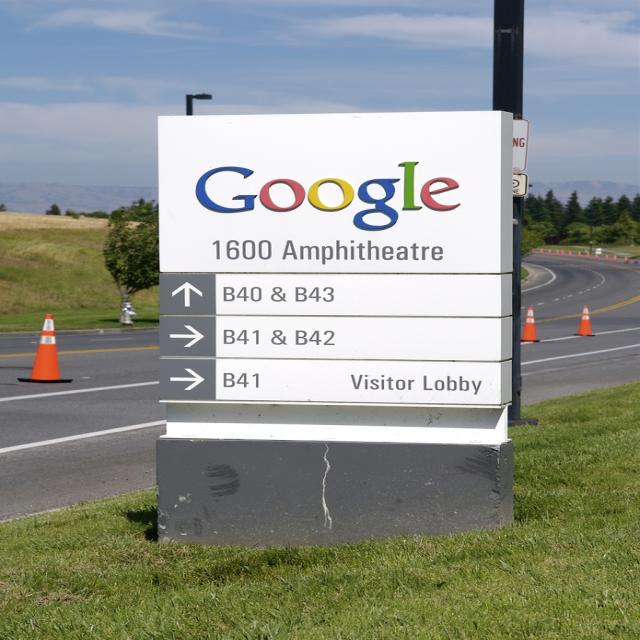google: (192, 157, 470, 236)
